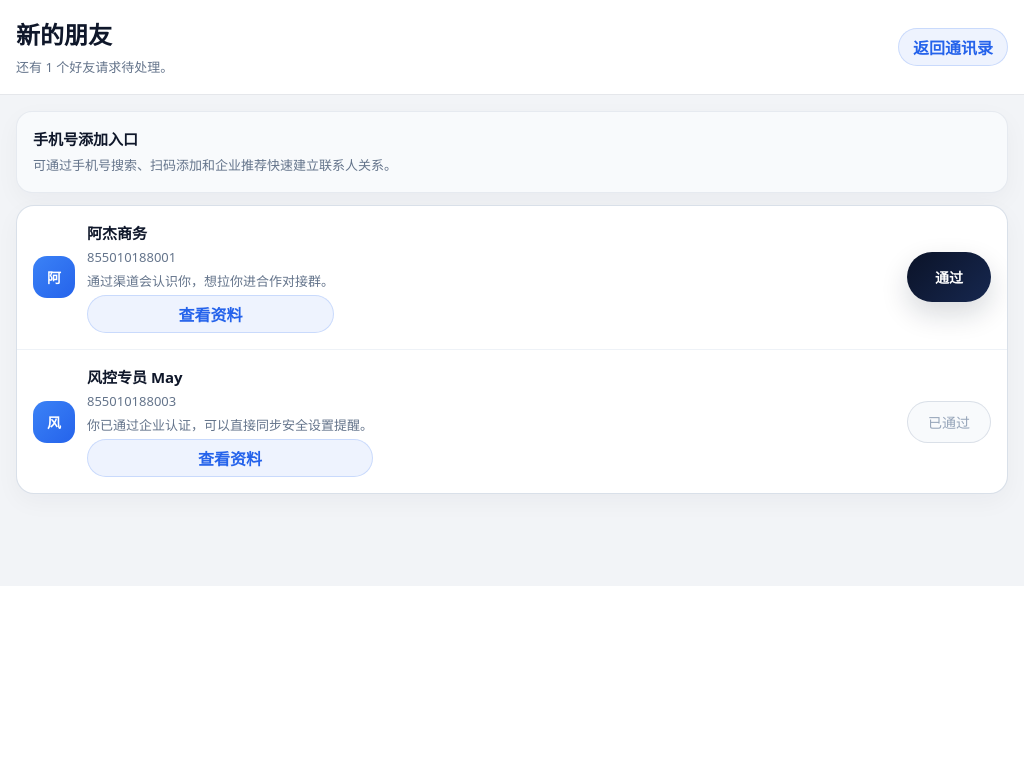
Scenario: App route entry › loads and accepts friend requests from api
Expected: the text "手机号添加入口" is shown, top-left (33, 129), bottom-right (138, 149)
Click the button "通过" at (949, 277), box top-left (907, 252), bottom-right (991, 302)
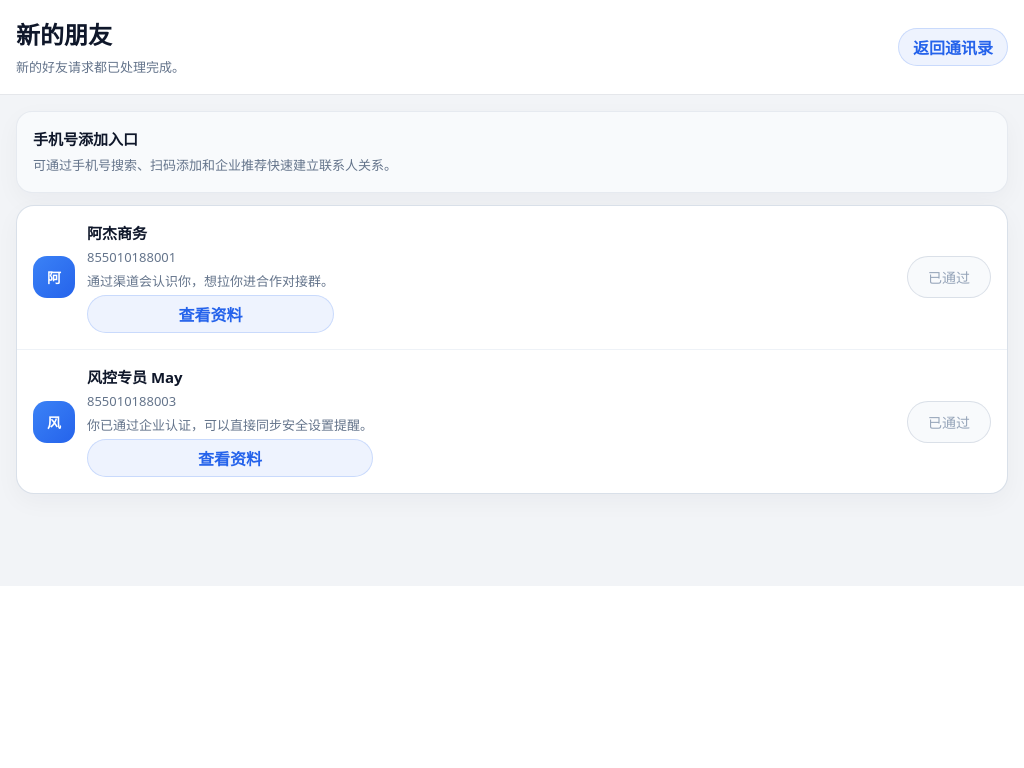
Expected: the button "已通过" in the row of "通过渠道会认识你，想拉你进合作对接群。" is shown, top-left (907, 256), bottom-right (991, 298)
